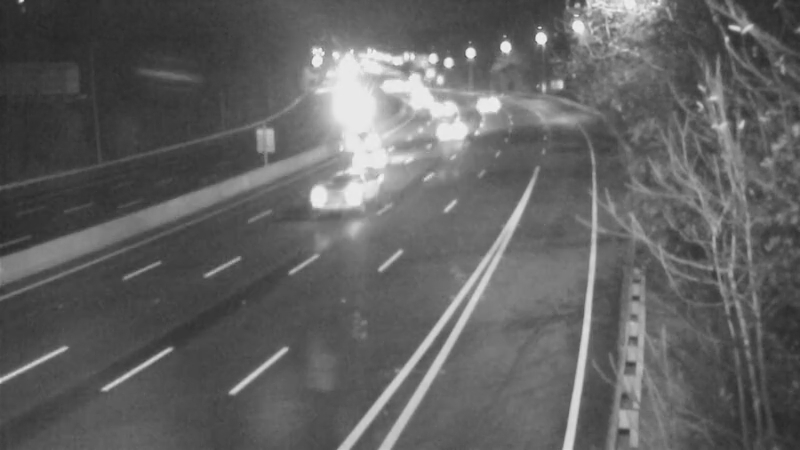vehicle: (332, 121, 412, 201), (301, 155, 381, 235), (464, 83, 514, 133), (407, 81, 457, 131), (430, 102, 480, 152), (336, 114, 386, 164)
